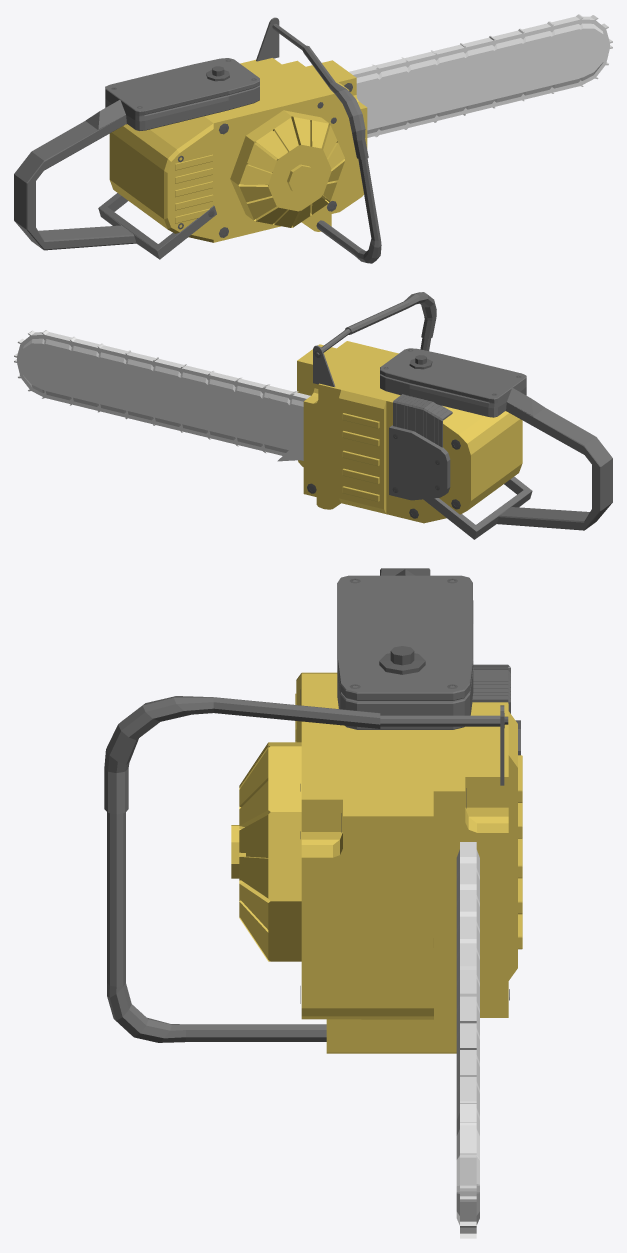
The model's file is Chainsaw_01.fbx.
3 renders of one model, top to bottom at view 1: azimuth 30°, elevation 25°; view 2: azimuth 150°, elevation 25°; view 3: azimuth 270°, elevation 25°, orthographic. The views are drawn at different scales.
Parts seen in each view (by area): view 1: Chainsaw_01; view 2: Chainsaw_01; view 3: Chainsaw_01.
Boxes of the visible parts, bbox=[...] form: Chainsaw_01: bbox=[14, 14, 612, 263]; Chainsaw_01: bbox=[14, 292, 612, 539]; Chainsaw_01: bbox=[104, 568, 522, 1238].
Bounding box in the file's own units: 169 × 47.77 × 53.12.
